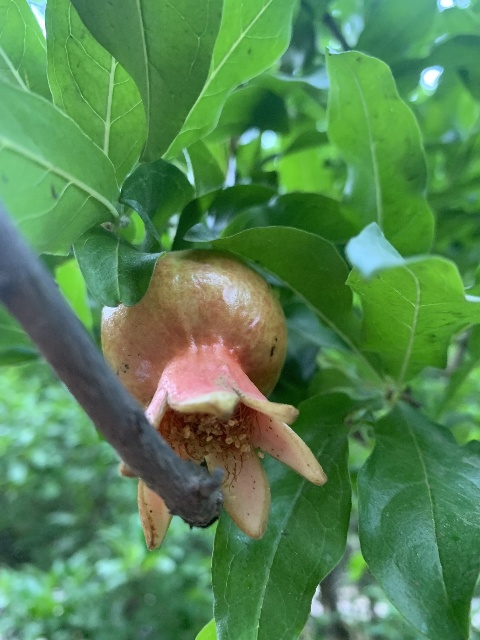early-fruit: (102, 248, 327, 549)
